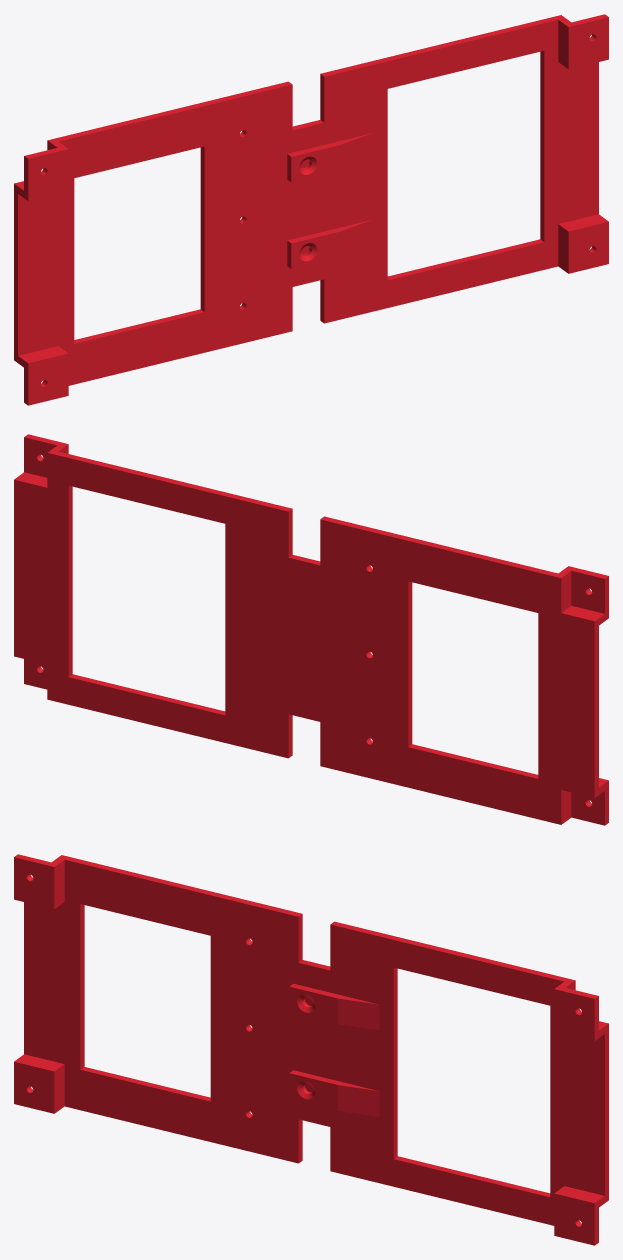
File: tinker.obj
3 views of the same model, one above another, from view 1: azimuth 30°, elevation 25°; view 2: azimuth 150°, elevation 25°; view 3: azimuth 330°, elevation 25° (orthographic).
Visible parts, largest first — view 1: obj_0; view 2: obj_0; view 3: obj_0.
Boxes of the visible parts, box(x1,y1,x2,y2) form: obj_0: box(14, 14, 608, 405); obj_0: box(14, 434, 608, 825); obj_0: box(14, 854, 608, 1245).
Size of the model in its own units: 330 by 134 by 14.
